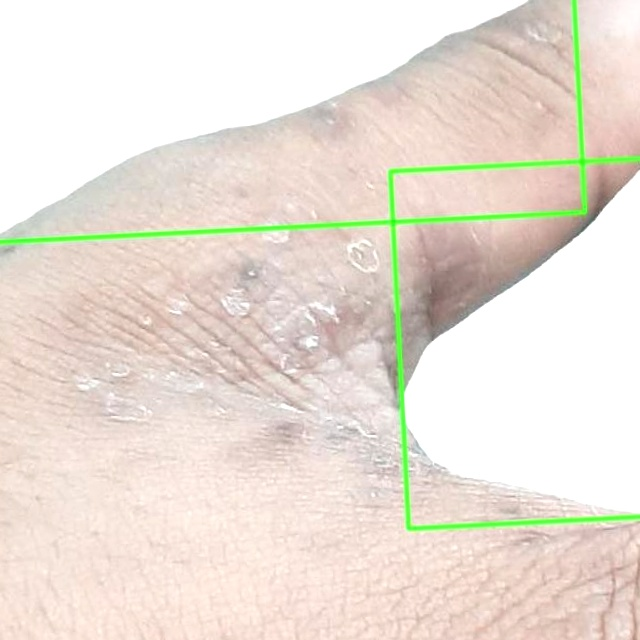Scabies: (0, 0, 585, 241), (390, 158, 639, 528)
